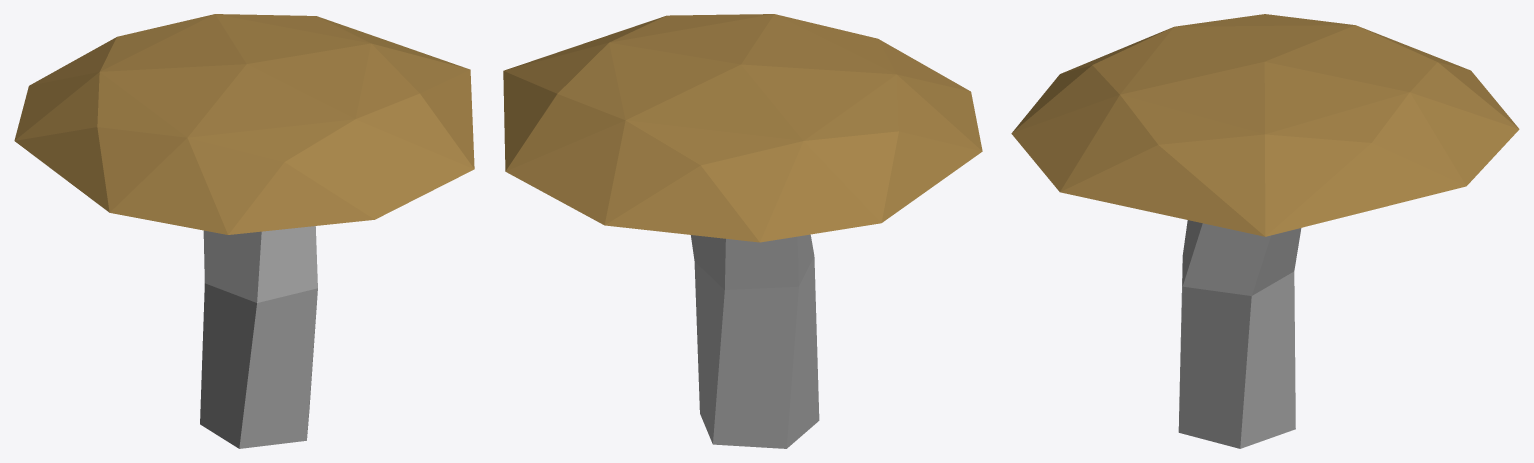
The model's file is Mushroom#2.fbx.
The picture shows the model from 3 angles, left to right: view 1: azimuth 30°, elevation 25°; view 2: azimuth 150°, elevation 25°; view 3: azimuth 270°, elevation 25°; orthographic projection. The views are drawn at different scales.
Parts seen in each view (by area): view 1: Mushroom#2; view 2: Mushroom#2; view 3: Mushroom#2.
Part boxes in pixels (x1,y1,x2,y2): Mushroom#2: (14, 14, 474, 448); Mushroom#2: (503, 14, 982, 448); Mushroom#2: (1011, 14, 1519, 448).
Bounding box in the file's own units: 12.1 × 9.96 × 12.69.
